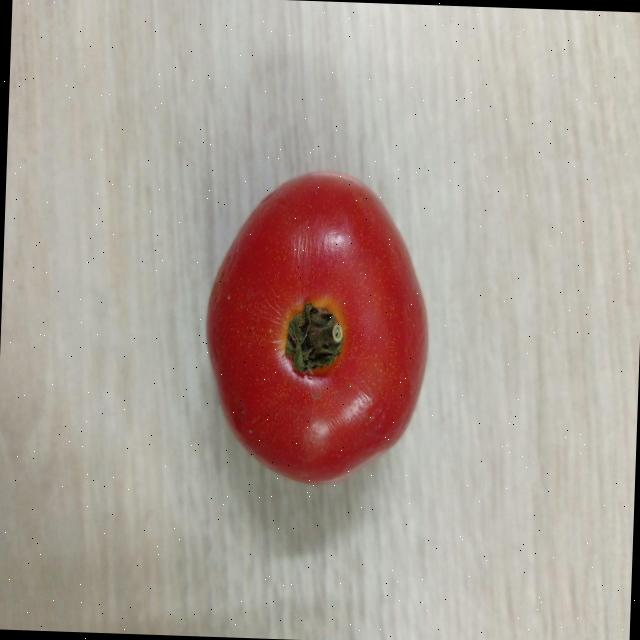Ripe: (193, 165, 438, 489)
